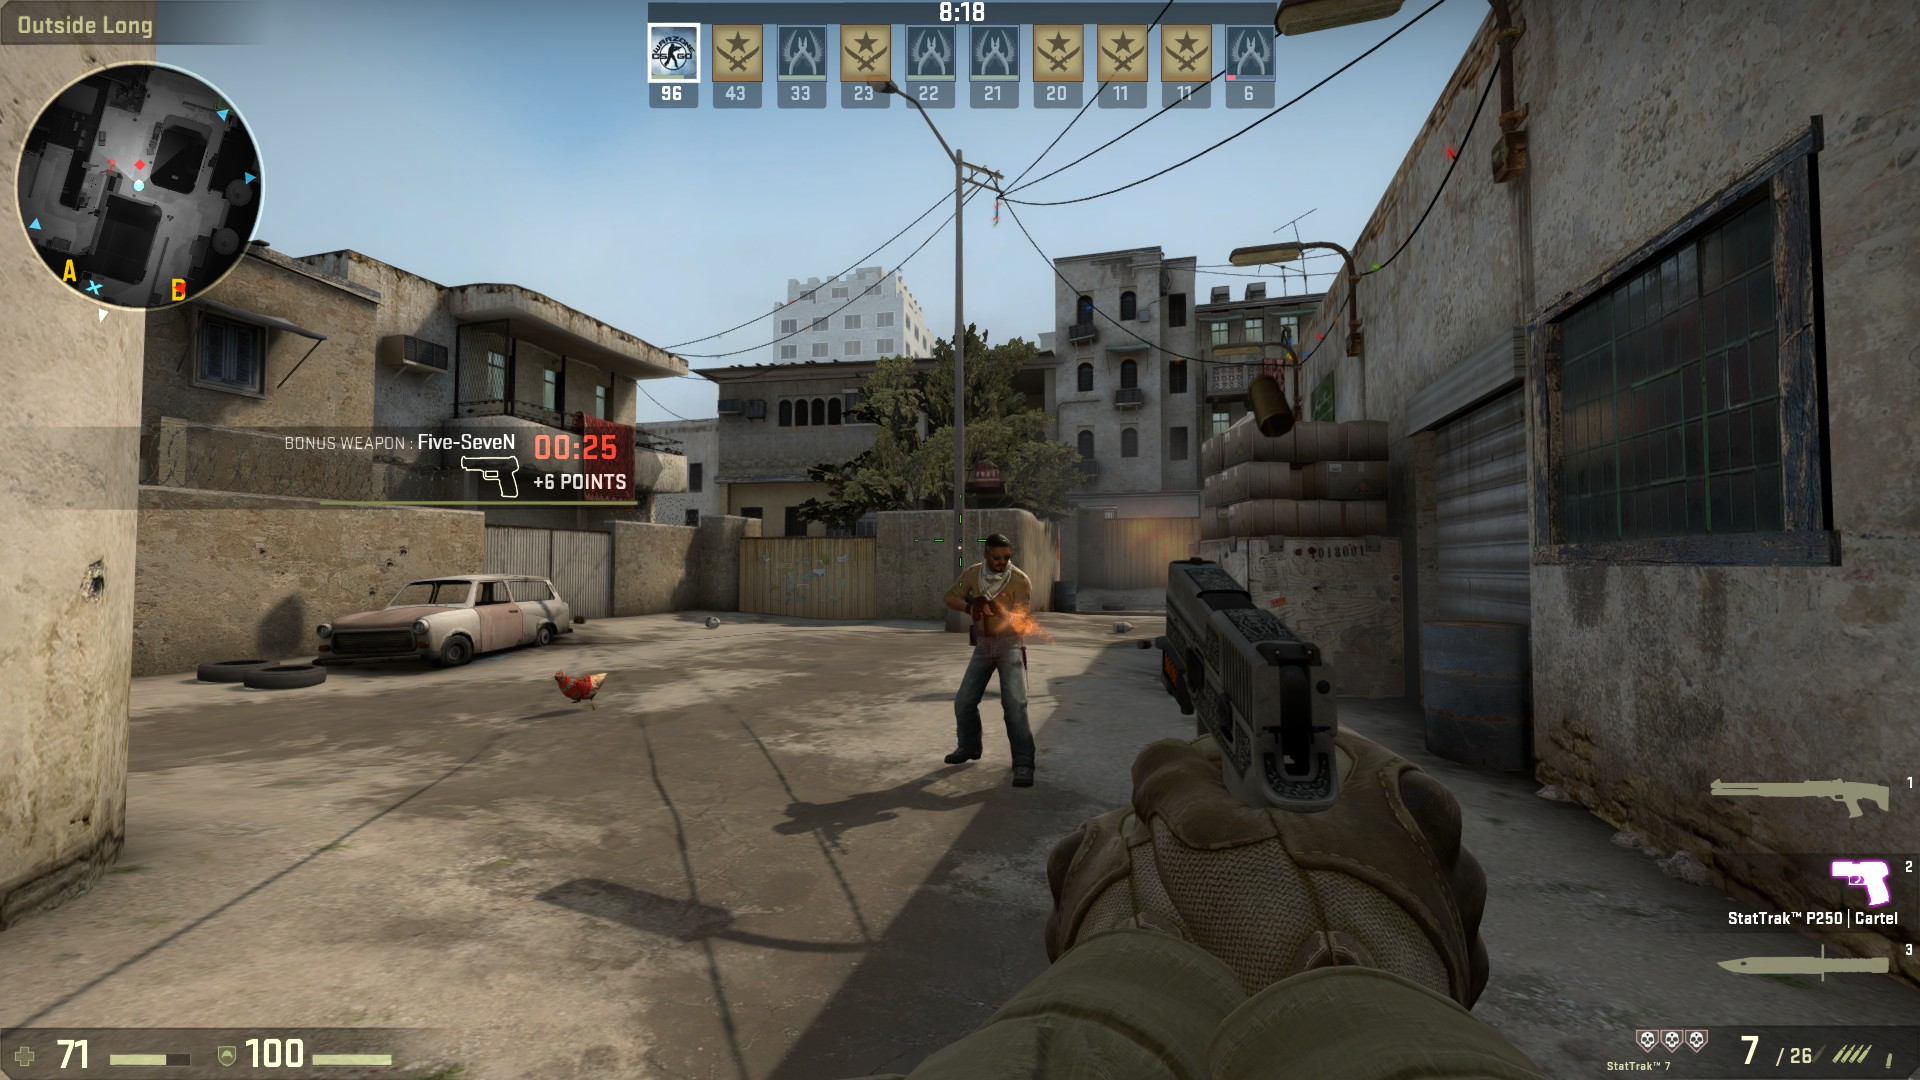t: (939, 535, 1040, 781)
th: (976, 530, 1015, 582)
